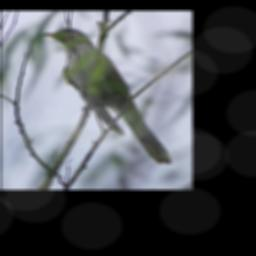Cuckoo: (43, 27, 179, 166)
